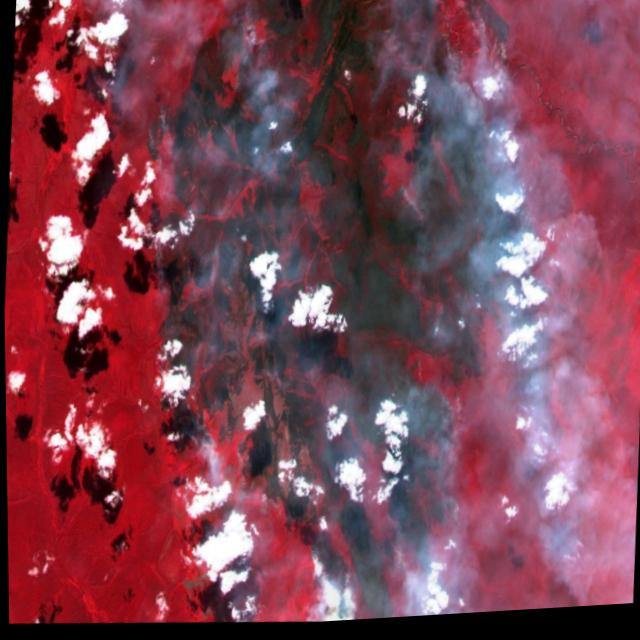fire: (421, 5, 517, 97), (129, 81, 190, 211), (157, 361, 227, 462)
